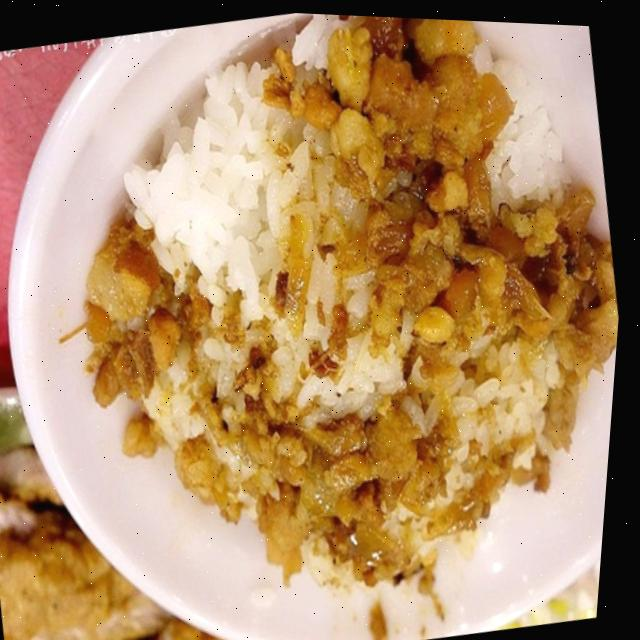猪肉菜式: (0, 1, 640, 640)
